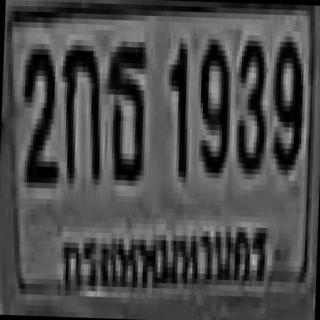A01: (59, 39, 104, 179)
A24: (103, 36, 146, 180)
N01: (166, 38, 188, 177)
N02: (19, 43, 58, 183)
N03: (233, 35, 267, 169)
N09: (195, 33, 230, 173), (268, 31, 302, 170)
P04: (55, 213, 272, 305)
